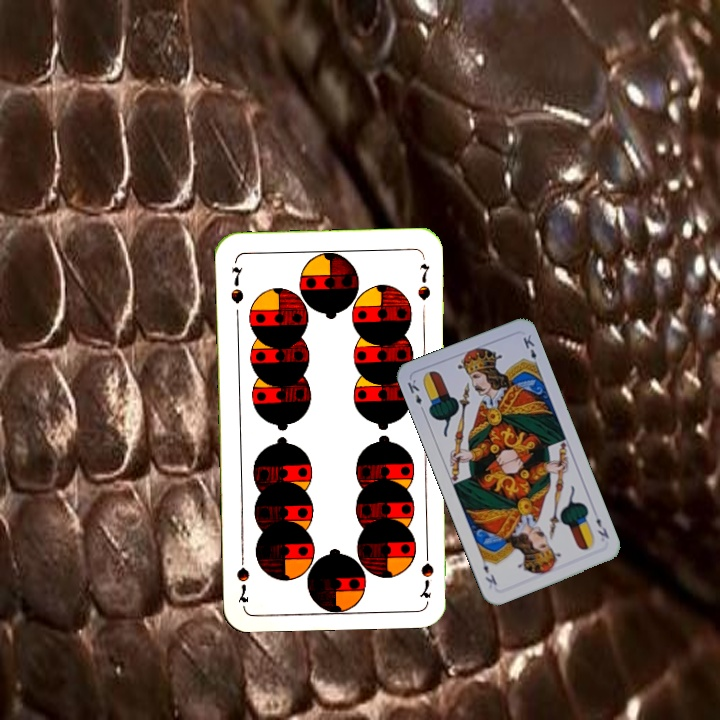EK: (403, 375, 427, 415), (592, 514, 612, 541)
S7: (415, 542, 436, 600), (226, 263, 246, 307)
